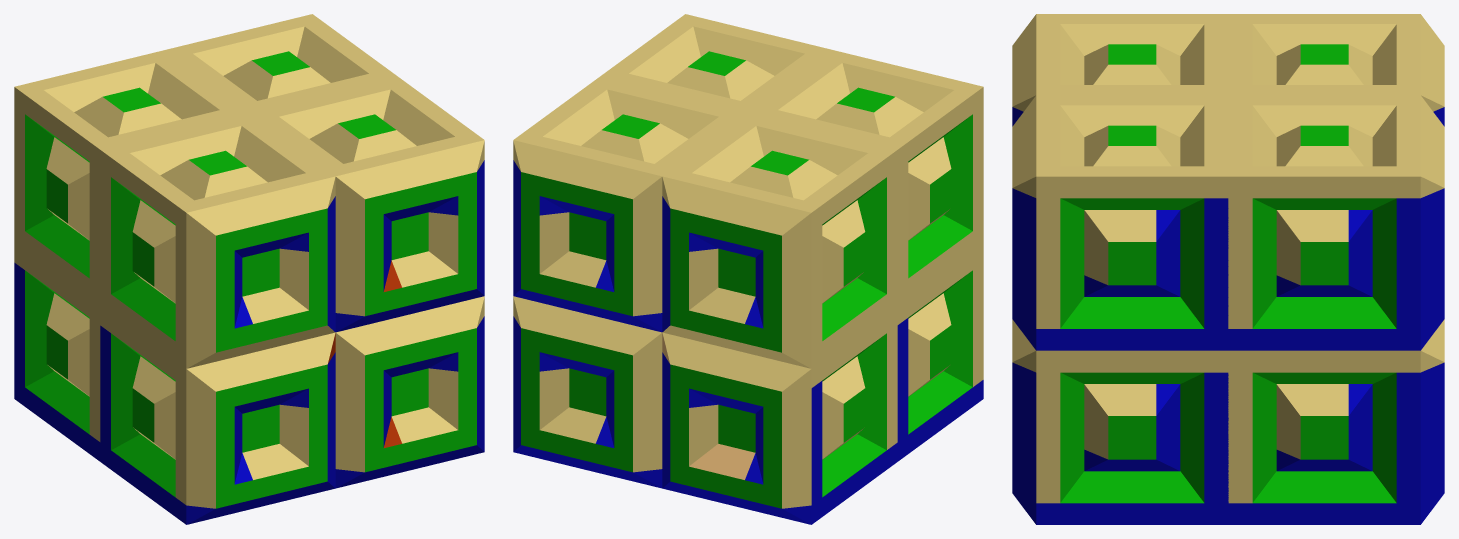
Rendered from br-m-seal-green.fbx.
The picture shows the model from 3 angles, left to right: view 1: azimuth 30°, elevation 25°; view 2: azimuth 150°, elevation 25°; view 3: azimuth 270°, elevation 25°; orthographic projection. The views are drawn at different scales.
Visible parts, largest first — view 1: imp_seal_blue1; view 2: imp_seal_blue1; view 3: imp_seal_blue1.
Boxes of the visible parts, box(x1,y1,x2,y2) form: imp_seal_blue1: box(14, 14, 484, 524); imp_seal_blue1: box(513, 14, 983, 524); imp_seal_blue1: box(1012, 14, 1444, 524).
Size of the model in its own units: 1 by 1 by 1.13.
